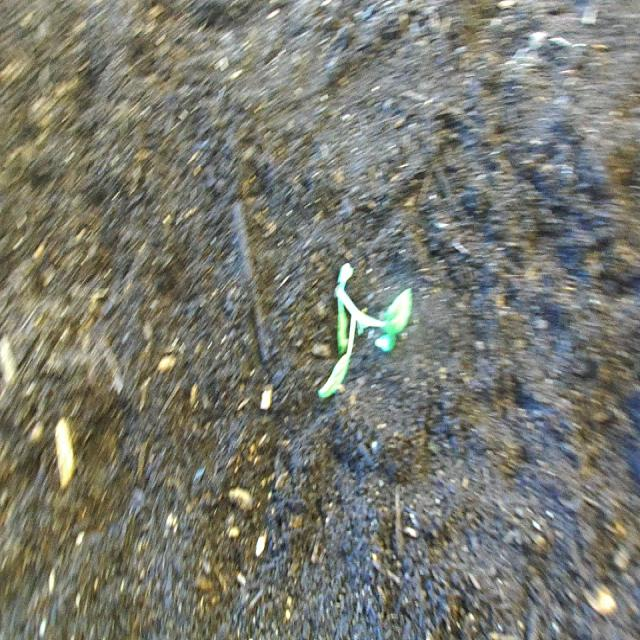Unhealthy: (317, 255, 419, 416)
